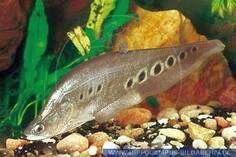Knifefish: (25, 38, 226, 142)
